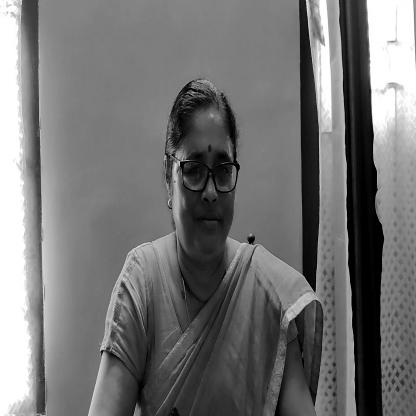Normal: (165, 85, 246, 278)
